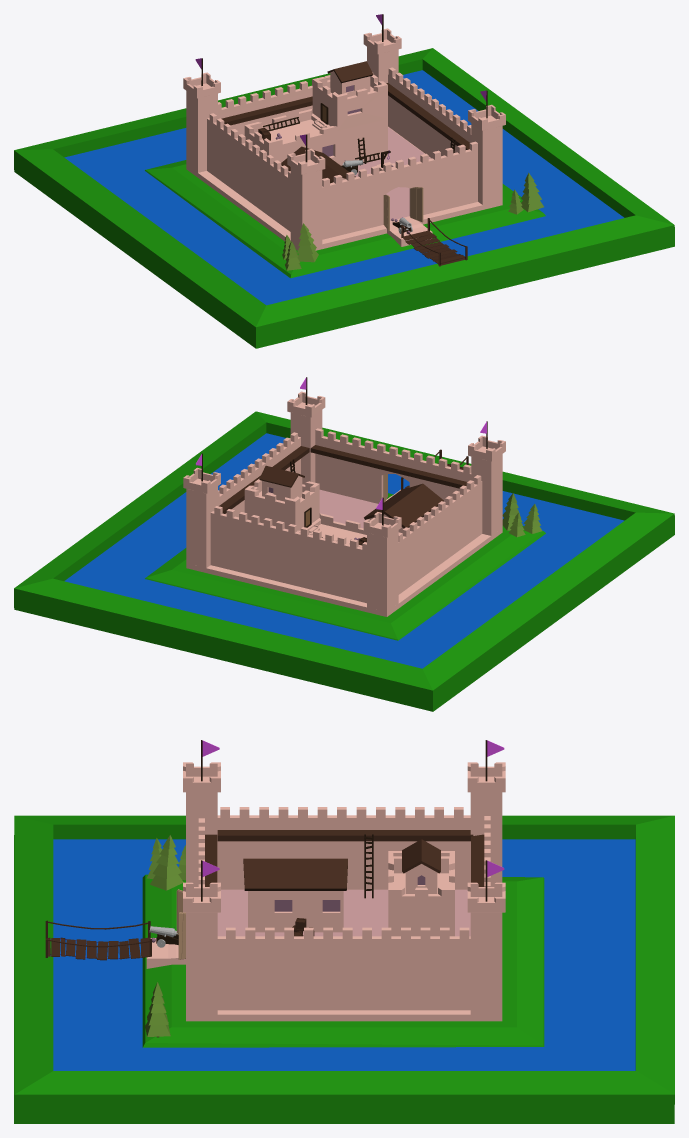
File: Low_poly_Castle.glb
The picture shows the model from 3 angles, top to bottom: view 1: azimuth 30°, elevation 25°; view 2: azimuth 150°, elevation 25°; view 3: azimuth 270°, elevation 25°; orthographic projection. The views are drawn at different scales.
Visible parts, largest first — view 1: Castle_Material_0, trees_Material_0, Bridge_Material_0; view 2: Castle_Material_0, trees_Material_0; view 3: Castle_Material_0, Bridge_Material_0, trees_Material_0.
Boxes of the visible parts, bbox=[...] form: Castle_Material_0: bbox=[14, 14, 674, 348]; trees_Material_0: bbox=[282, 172, 543, 270]; Bridge_Material_0: bbox=[387, 218, 467, 266]; Castle_Material_0: bbox=[14, 377, 674, 711]; trees_Material_0: bbox=[502, 493, 542, 537]; Castle_Material_0: bbox=[14, 740, 674, 1123]; Bridge_Material_0: bbox=[45, 920, 185, 968]; trees_Material_0: bbox=[145, 835, 185, 1037].
Size of the model in its own units: 4176 by 1283 by 4180.
1 material, 1 textured.
